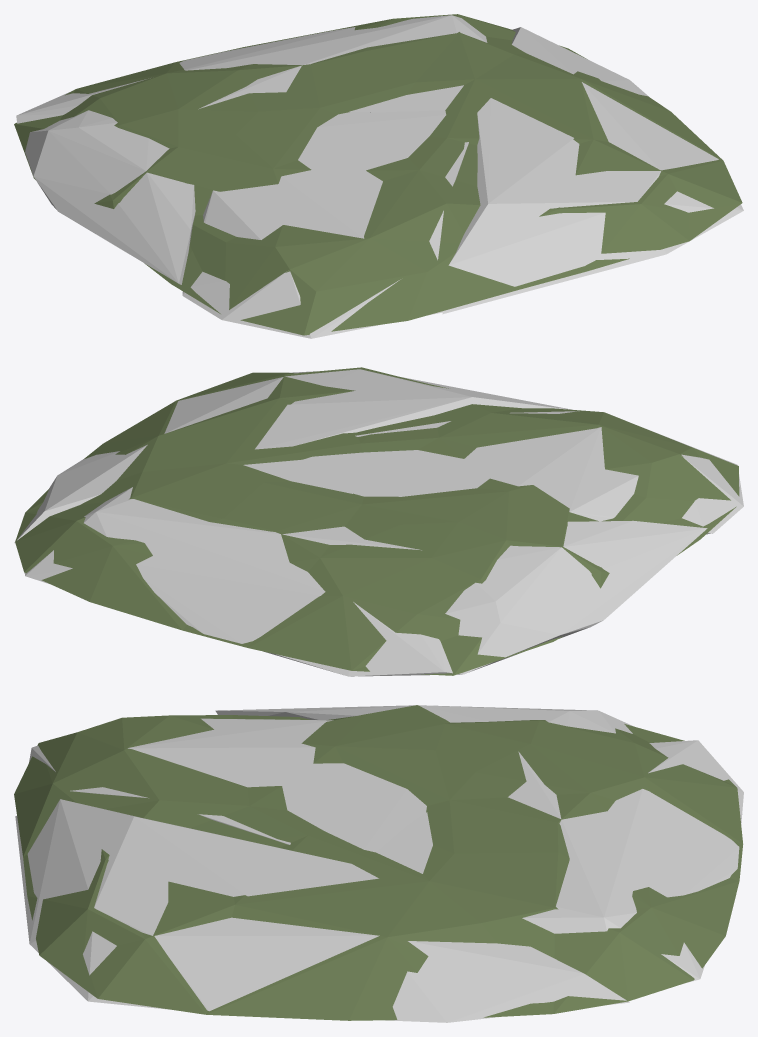
File: SM_Env_Ground_Grass_Small_01.fbx
3 renders of one model, top to bottom at view 1: azimuth 30°, elevation 25°; view 2: azimuth 150°, elevation 25°; view 3: azimuth 270°, elevation 25°, orthographic. The views are drawn at different scales.
Visible parts, largest first — view 1: SM_Env_Ground_Grass_Small_01, SM_Env_Ground_Grass_Small_01_ConvexHulls; view 2: SM_Env_Ground_Grass_Small_01, SM_Env_Ground_Grass_Small_01_ConvexHulls; view 3: SM_Env_Ground_Grass_Small_01, SM_Env_Ground_Grass_Small_01_ConvexHulls.
Part boxes in pixels (x1,y1,x2,y2): SM_Env_Ground_Grass_Small_01: [14, 14, 742, 335]; SM_Env_Ground_Grass_Small_01_ConvexHulls: [16, 15, 743, 338]; SM_Env_Ground_Grass_Small_01: [15, 367, 739, 675]; SM_Env_Ground_Grass_Small_01_ConvexHulls: [14, 369, 743, 676]; SM_Env_Ground_Grass_Small_01: [14, 705, 743, 1020]; SM_Env_Ground_Grass_Small_01_ConvexHulls: [15, 705, 743, 1022].
Size of the model in its own units: 373 by 372 by 31.68.
Materials: 2 (1 with a texture image).
